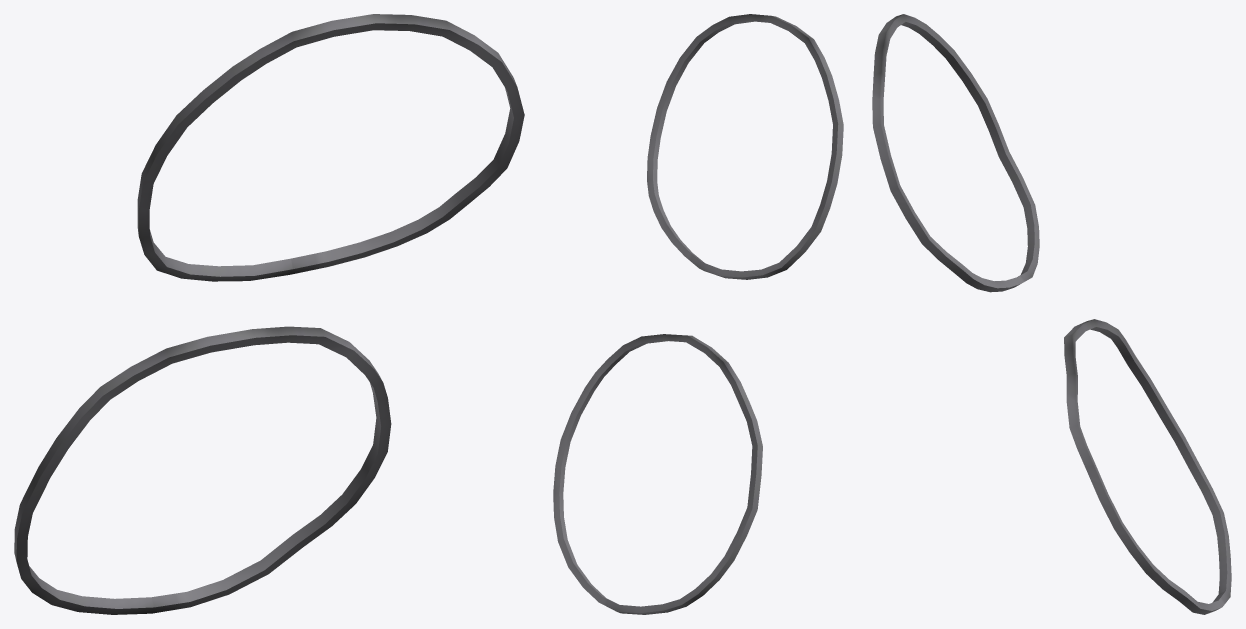
File: baiquan003.FBX
3 views of the same model, side by side, from view 1: azimuth 30°, elevation 25°; view 2: azimuth 150°, elevation 25°; view 3: azimuth 270°, elevation 25° (orthographic). The views are drawn at different scales.
Visible parts, largest first — view 1: baiquan003; view 2: baiquan003; view 3: baiquan003.
Part boxes in pixels (bbox=[...]): baiquan003: bbox=[14, 14, 524, 614]; baiquan003: bbox=[553, 14, 843, 614]; baiquan003: bbox=[872, 14, 1231, 614].
Size of the model in its own units: 33.55 by 73.25 by 42.15.
